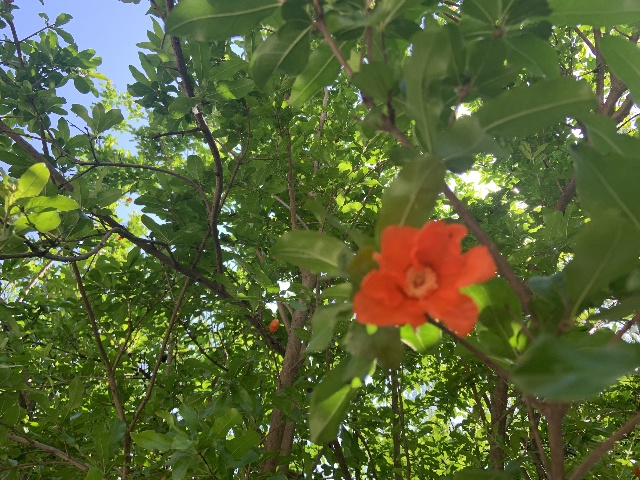bud: (268, 318, 279, 333)
flower: (353, 220, 497, 337), (633, 465, 640, 477)
